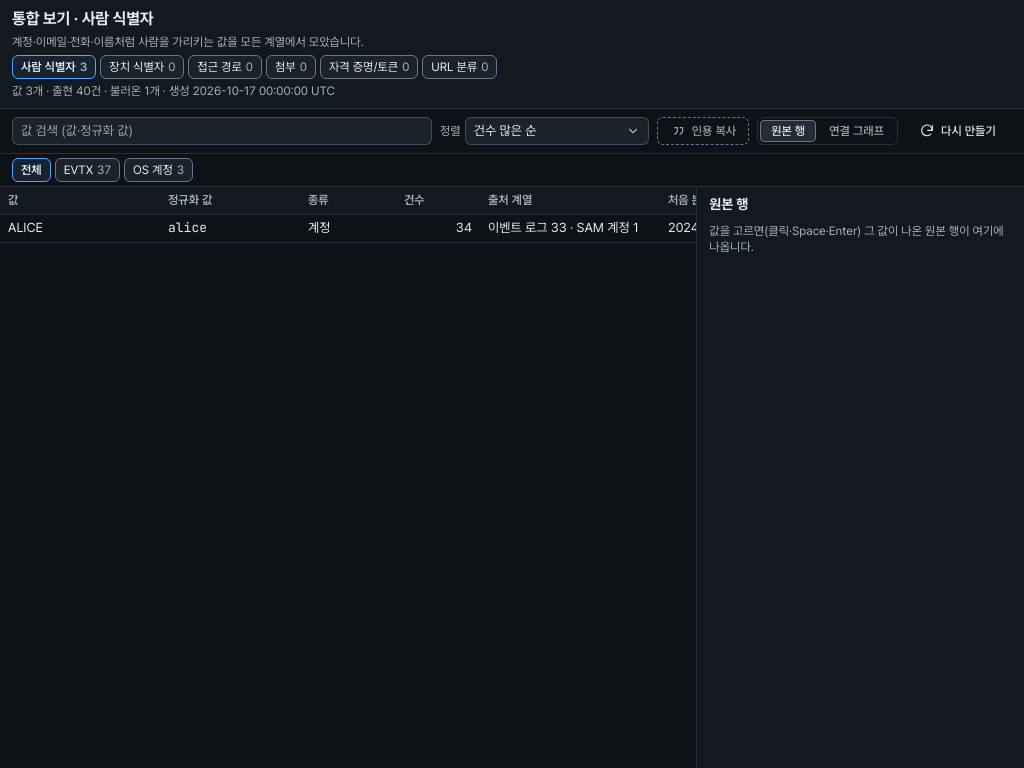
Test: DerivedPane (Q-X5 / Q-X12) › the 원본 행 error stays with the 원본 행 mode, not the 연결 그래프 (r4 V3 review F10)
The image size is (1024, 768).
Expected: the number of rows is 2, [0,187,696,215]; [0,215,696,243]
Press Enter in the row named "값 ALICE, 정규화 값 alice, 종류 계정, 건수 34, 출처 계열 이벤트 로그 33 · SAM 계정", box [0,215,980,243]
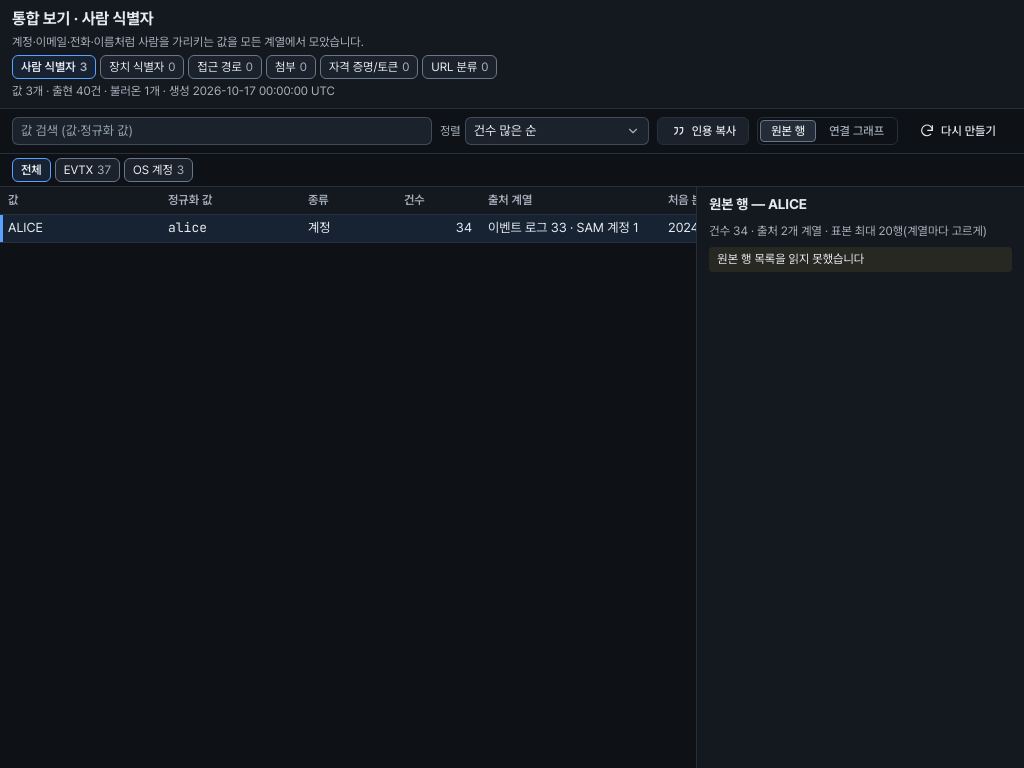
Expected: the message reads "원본 행 목록을 읽지 못했습니다", [717,252,864,266]
Click the button "연결 그래프": (857, 131) [818,120,895,142]
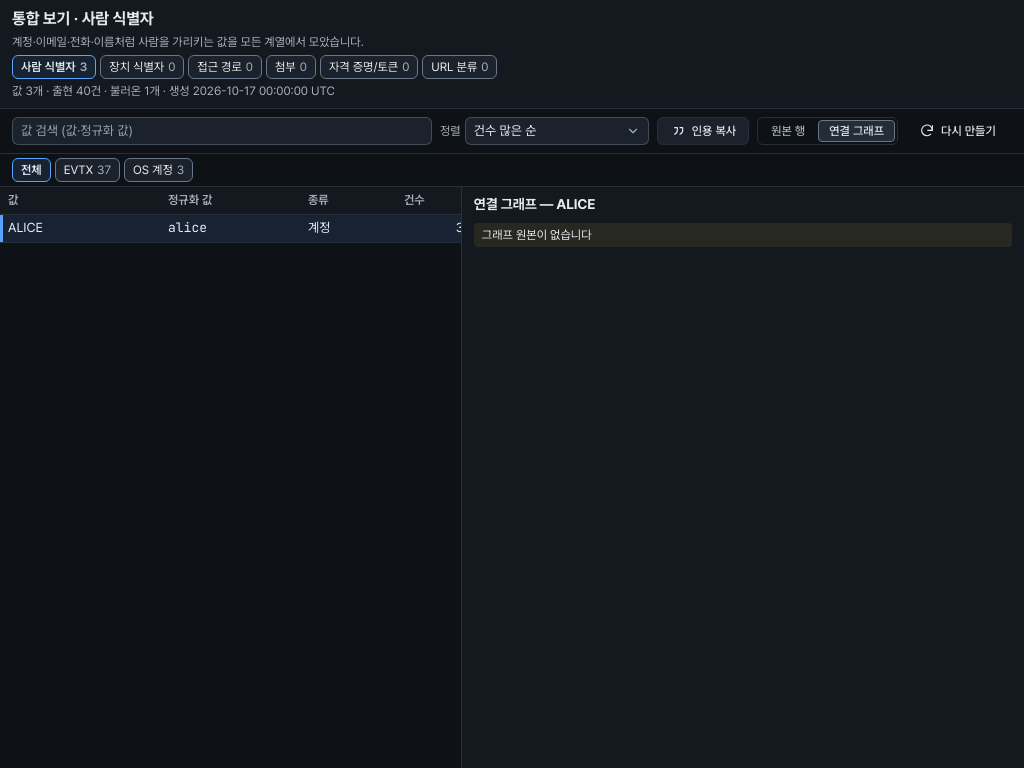
Expected: the number of messages is 1, [474,223,1012,247]
Expected: the message reads "그래프 원본이 없습니다", [482,228,592,242]
Expected: the message with test id "derived-rows" no longer shows "원본 행 목록을 읽지 못했습니다"
